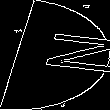N_W: (6, 31, 104, 79)
